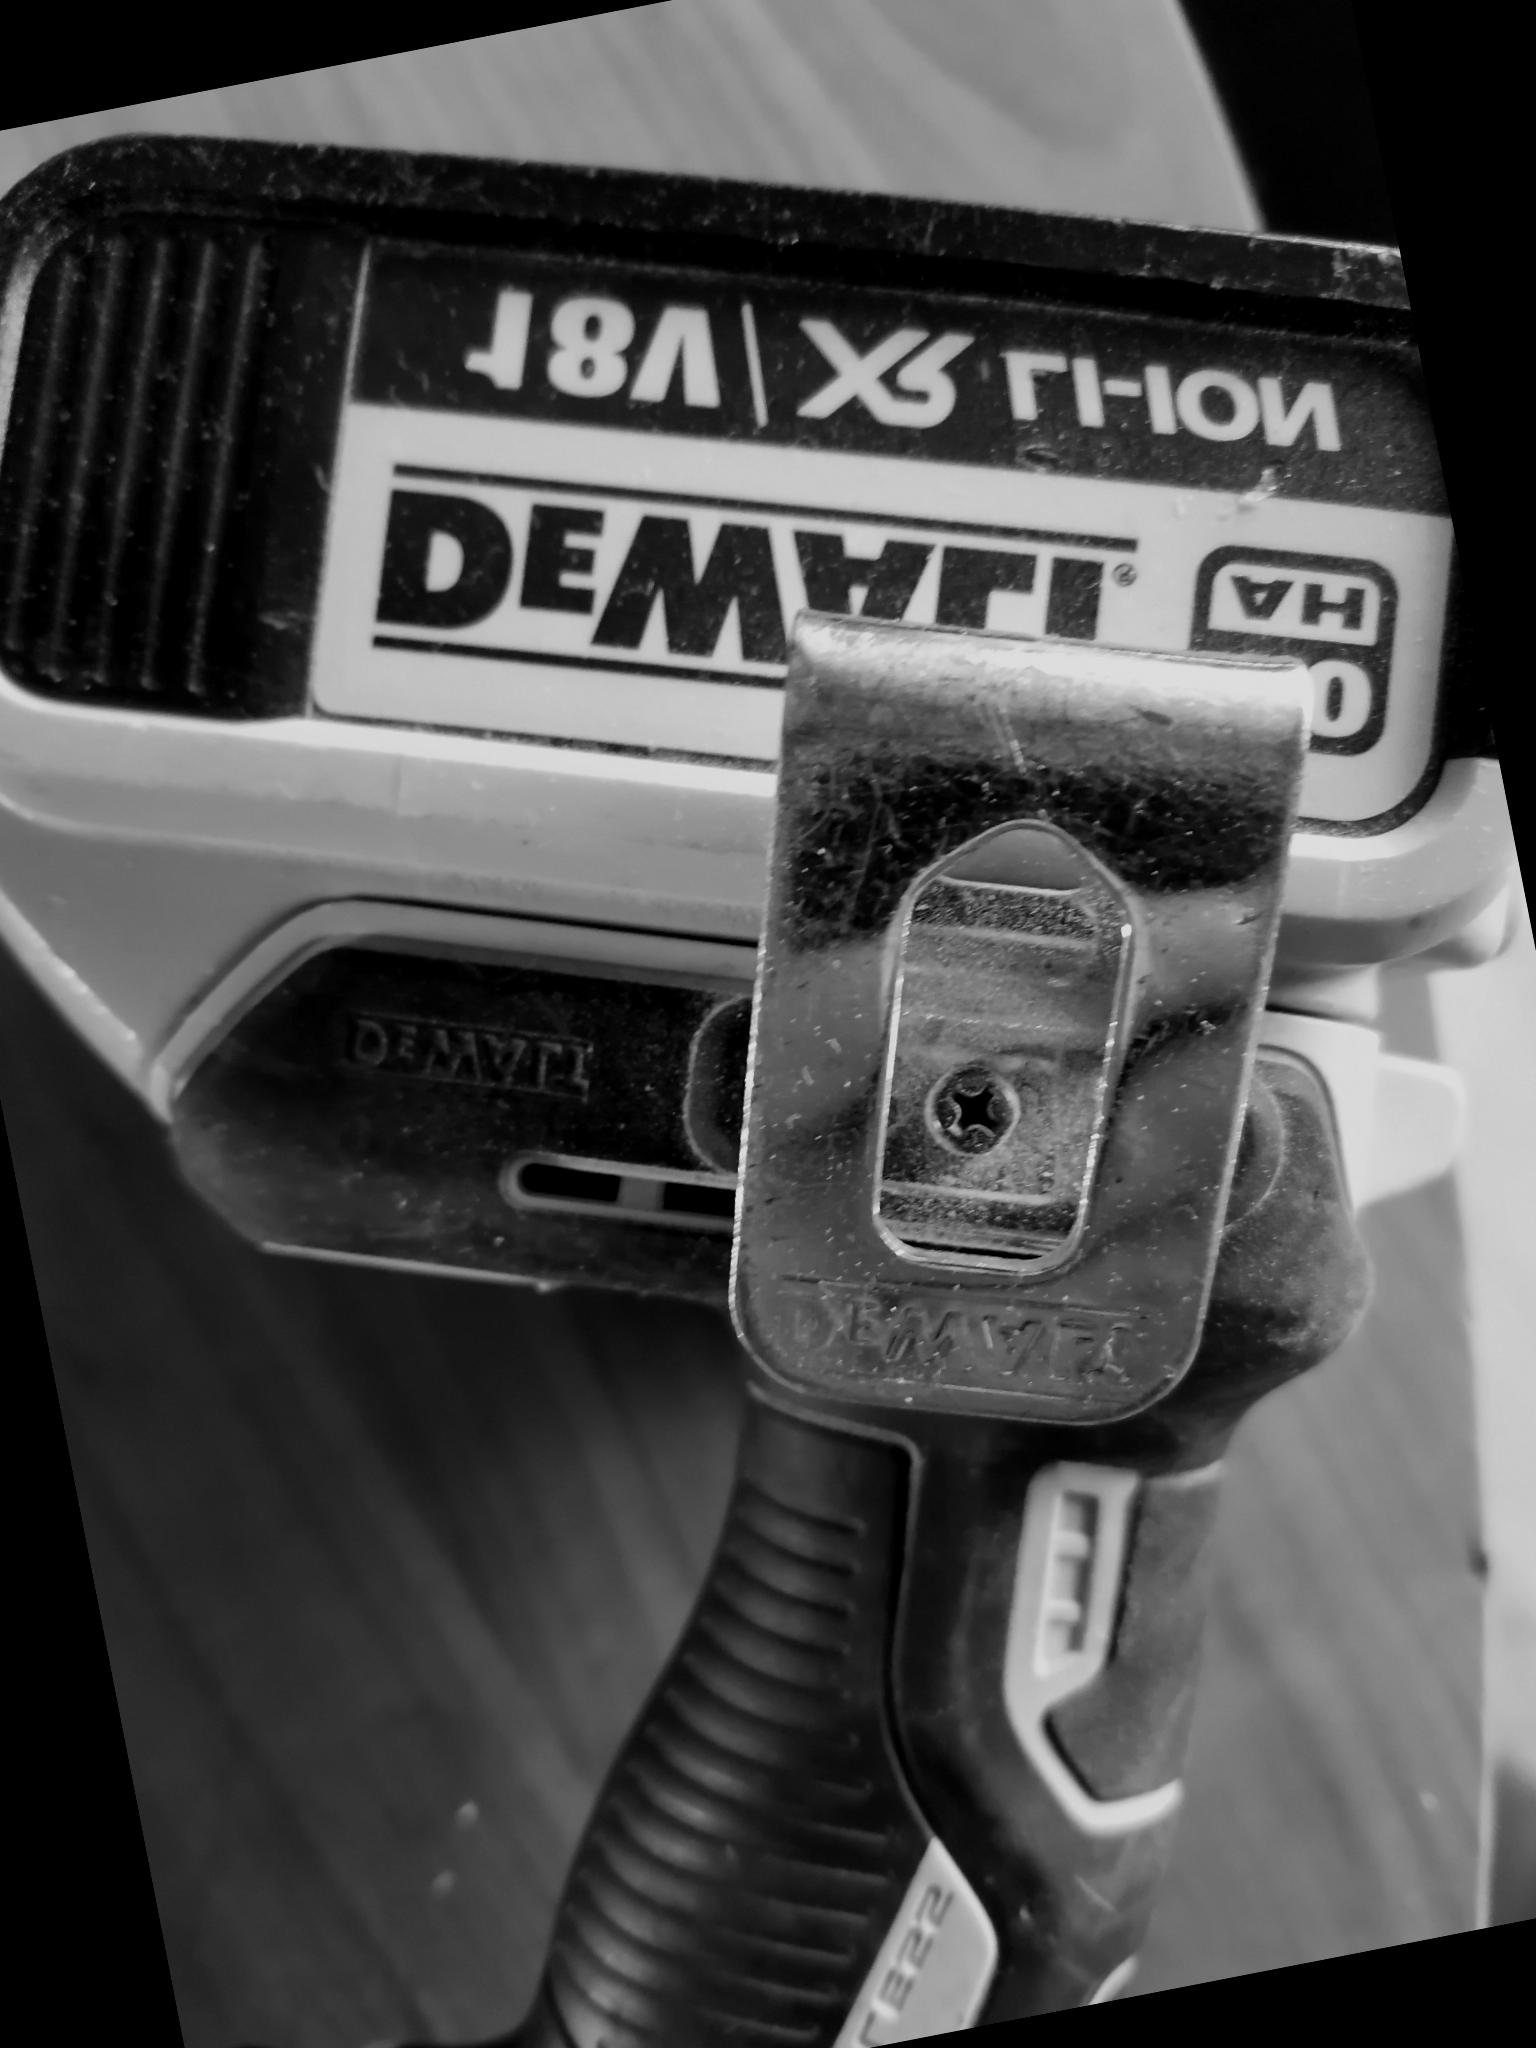philips-PZ: (915, 1053, 1041, 1174)
